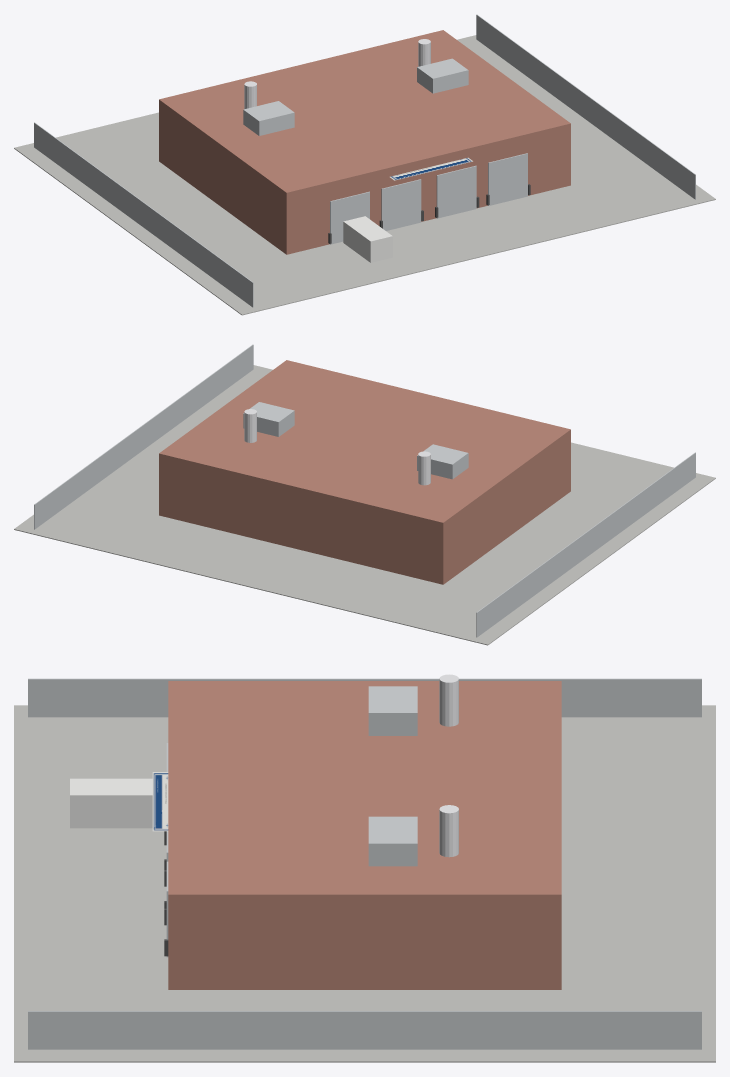
The model's file is lavanderia_superlab.glb.
3 renders of one model, top to bottom at view 1: azimuth 30°, elevation 25°; view 2: azimuth 150°, elevation 25°; view 3: azimuth 270°, elevation 25°, orthographic. The views are drawn at different scales.
Parts seen in each view (by area): view 1: Lavanderia_Superlab_laundry_walls, Lavanderia_Superlab_lot, Lavanderia_Superlab, Lavanderia_Superlab_sec_fence_-28, Lavanderia_Superlab_dock_3.5, Lavanderia_Superlab_dock_-3.5, Lavanderia_Superlab_laundry_van, Lavanderia_Superlab_chiller_-11, Lavanderia_Superlab_dock_-10; view 2: Lavanderia_Superlab_laundry_walls, Lavanderia_Superlab_lot, Lavanderia_Superlab, Lavanderia_Superlab_sec_fence_-28, Lavanderia_Superlab_chiller_-11; view 3: Lavanderia_Superlab_laundry_walls, Lavanderia_Superlab_lot, Lavanderia_Superlab, Lavanderia_Superlab_sec_fence_-28, Lavanderia_Superlab_laundry_van, Lavanderia_Superlab_chiller_-11, Lavanderia_Superlab_stack_-11, Lavanderia_Superlab_sign.
Part boxes in pixels (x1,y1,x2,y2): Lavanderia_Superlab_laundry_walls: (159,30,570,254); Lavanderia_Superlab_lot: (14,35,715,315); Lavanderia_Superlab: (417,14,695,205); Lavanderia_Superlab_sec_fence_-28: (34,122,253,307); Lavanderia_Superlab_dock_3.5: (436,165,476,218); Lavanderia_Superlab_dock_-3.5: (381,179,421,230); Lavanderia_Superlab_laundry_van: (343,216,392,262); Lavanderia_Superlab_chiller_-11: (243,101,294,135); Lavanderia_Superlab_dock_-10: (330,191,369,244); Lavanderia_Superlab_laundry_walls: (159,360,570,584); Lavanderia_Superlab_lot: (14,365,715,645); Lavanderia_Superlab: (34,344,294,529); Lavanderia_Superlab_sec_fence_-28: (476,452,695,637); Lavanderia_Superlab_chiller_-11: (417,444,468,479); Lavanderia_Superlab_laundry_walls: (168,681,561,989); Lavanderia_Superlab_lot: (14,705,715,1062); Lavanderia_Superlab: (28,805,701,1049); Lavanderia_Superlab_sec_fence_-28: (28,678,701,717); Lavanderia_Superlab_laundry_van: (70,778,152,828); Lavanderia_Superlab_chiller_-11: (368,686,417,735); Lavanderia_Superlab_stack_-11: (439,674,458,726); Lavanderia_Superlab_sign: (152,772,168,831).
Size of what is drawn, in the model's own units: 60 by 19.16 by 50.
Materials: 11 (2 with a texture image).
